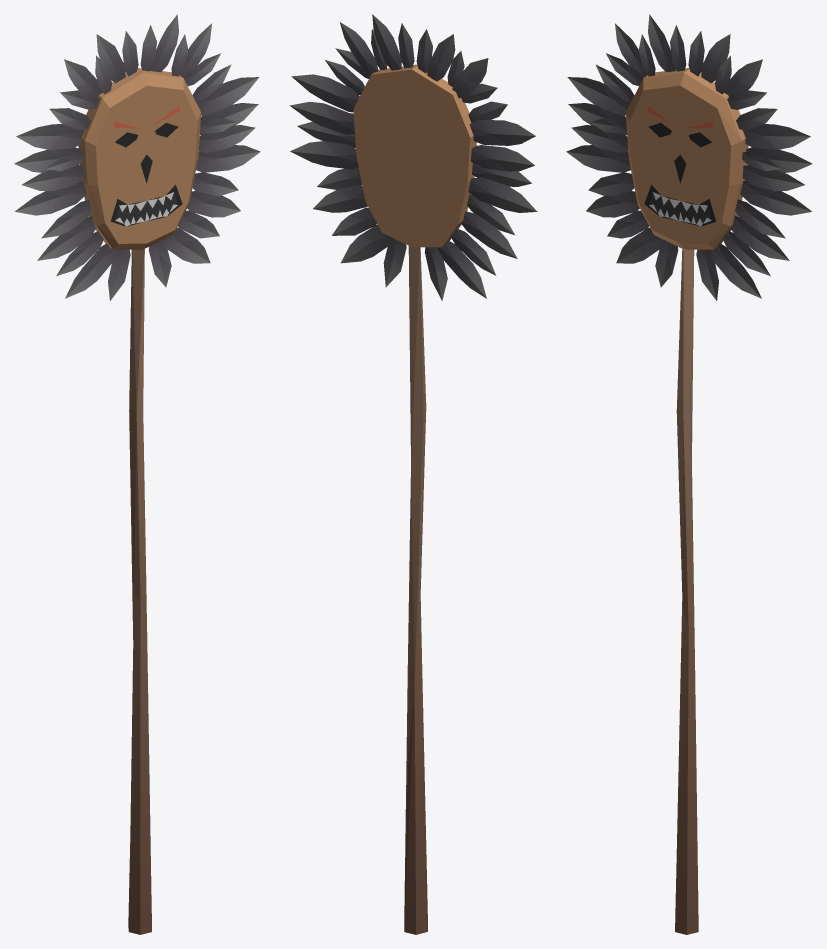
Rendered from Mask_03.fbx.
3 views of the same model, side by side, from view 1: azimuth 30°, elevation 25°; view 2: azimuth 150°, elevation 25°; view 3: azimuth 330°, elevation 25° (orthographic).
Parts seen in each view (by area): view 1: Mask_03; view 2: Mask_03; view 3: Mask_03.
Boxes of the visible parts, bbox=[...] form: Mask_03: bbox=[14, 14, 260, 934]; Mask_03: bbox=[289, 14, 537, 934]; Mask_03: bbox=[566, 14, 812, 934].
Bounding box in the file's own units: 43.94 × 154 × 3.84.
